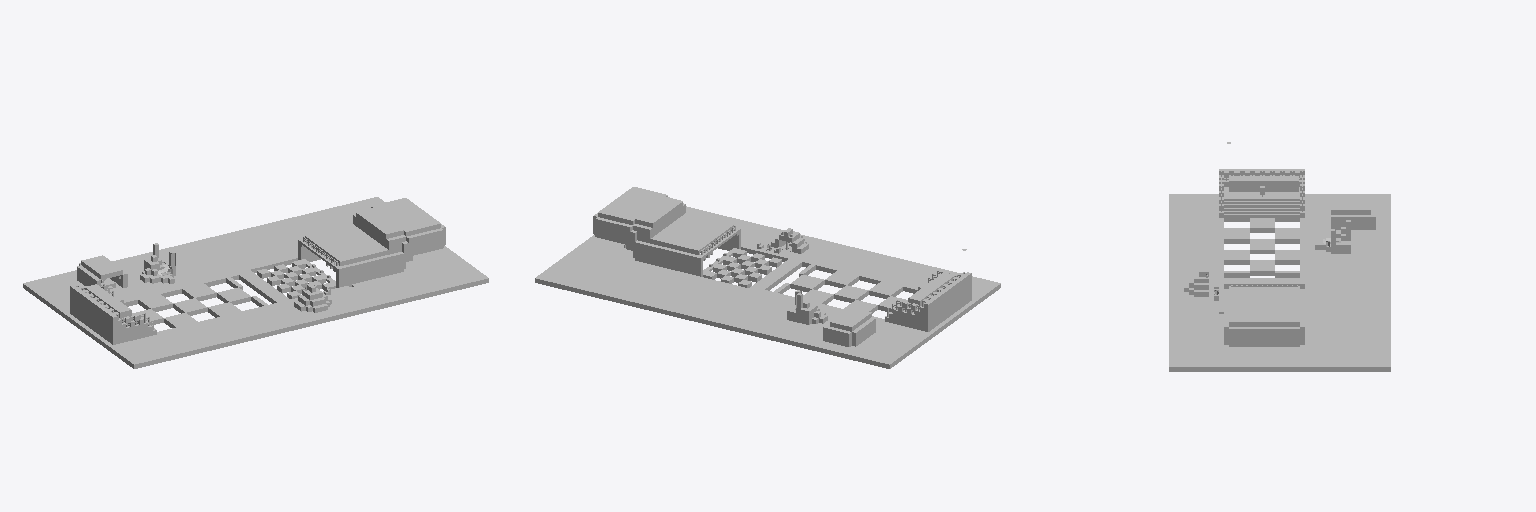
File: map.obj
The picture shows the model from 3 angles: view 1: azimuth 30°, elevation 25°; view 2: azimuth 150°, elevation 25°; view 3: azimuth 270°, elevation 25°; orthographic projection.
Parts seen in each view (by area): view 1: race_map_pikel, spawnzone; view 2: race_map_pikel, spawnzone; view 3: race_map_pikel, spawnzone.
Boxes of the visible parts, x1,y1,x2,y2 form: race_map_pikel: [23, 197, 488, 368]; spawnzone: [85, 284, 131, 318]; race_map_pikel: [535, 187, 1000, 368]; spawnzone: [908, 272, 954, 310]; race_map_pikel: [1169, 142, 1390, 371]; spawnzone: [1229, 176, 1298, 191].
Size of the model in its own units: 200 by 31.51 by 108.